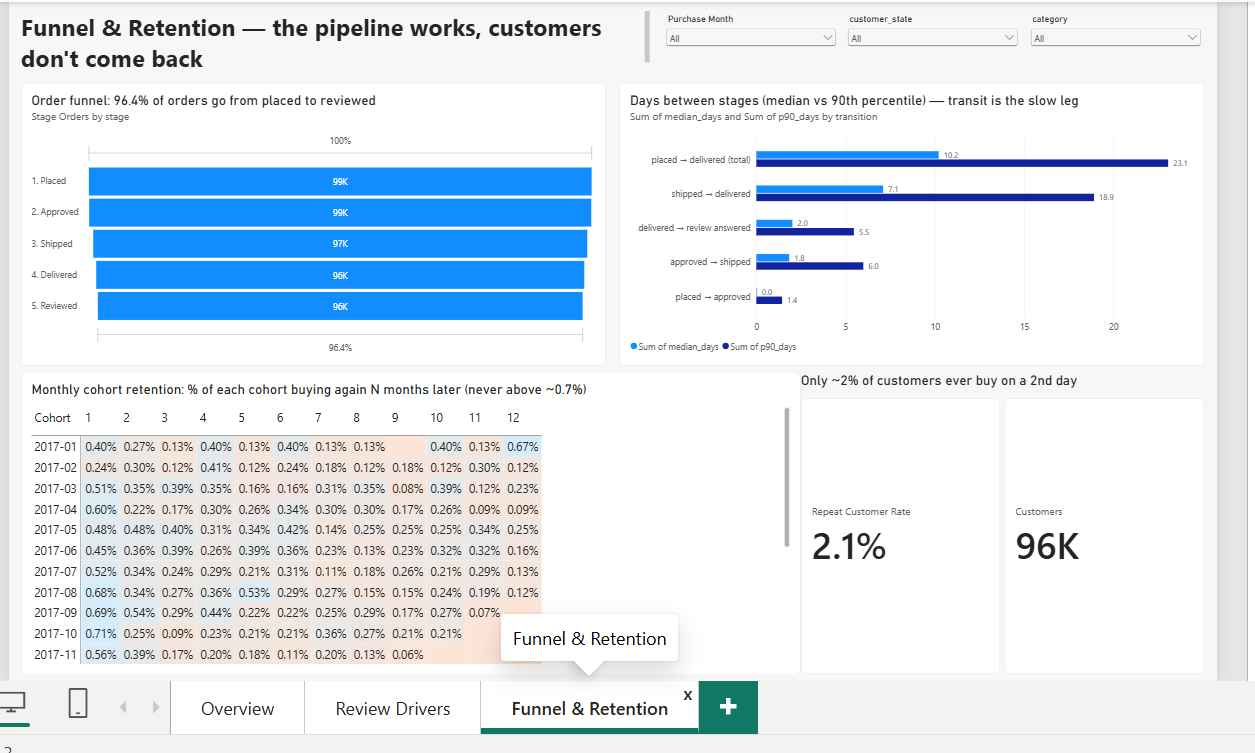

The dashboard page shown, as its layout file describes it:
{"tool":"powerbi","page":{"name":"Funnel & Retention","canvas":[1920,1080],"ordinal":2},"visuals":[{"type":"slicer","fields":{"Values":["fact_orders.Purchase Month"]},"box":[1040,20,280,80],"z":0},{"type":"slicer","fields":{"Values":["fact_orders.category"]},"box":[1620,20,280,80],"z":1},{"type":"slicer","fields":{"Values":["fact_orders.customer_state"]},"box":[1330,20,280,80],"z":2},{"type":"textbox","box":[20,15,1000,90],"z":3},{"type":"funnel","title":"Order funnel: 96.4% of orders go from placed to reviewed","fields":{"Category":["Stage.stage"],"Y":["fact_orders.Stage Orders"]},"box":[20,130,930,450],"z":4},{"type":"clusteredBarChart","title":"Days between stages (median vs 90th percentile) — transit is the slow leg","fields":{"Category":["funnel_stage_times.transition"],"Y":["Sum(funnel_stage_times.median_days)","Sum(funnel_stage_times.p90_days)"]},"box":[970,130,930,450],"z":5},{"type":"pivotTable","title":"Monthly cohort retention: % of each cohort buying again N months later (never above ~0.7%)","fields":{"Columns":["cohort_retention.month_number"],"Rows":["cohort_retention.Cohort"],"Values":["cohort_retention.Retention % (months 1-12)"]},"box":[20,590,1240,480],"z":6},{"type":"cardVisual","title":"Only ~2% of customers ever buy on a 2nd day","fields":{"Data":["fact_orders.Repeat Customer Rate","fact_orders.Customers"]},"box":[1260,590,640,480],"z":7},{"type":"textbox","box":[20,15,1000,90],"z":8}]}

Visuals, with their boxes on the page's 1920x1080 design canvas (x1, y1, x2, y2). These are canvas units, not pixel positions in the 1255x753 screenshot, which may show the page scaled, cropped or inside an application window:
slicer - fact_orders.Purchase Month: bbox=[1040, 20, 1320, 100]
slicer - fact_orders.category: bbox=[1620, 20, 1900, 100]
slicer - fact_orders.customer_state: bbox=[1330, 20, 1610, 100]
textbox: bbox=[20, 15, 1020, 105]
"Order funnel: 96.4% of orders go from placed to reviewed" funnel: bbox=[20, 130, 950, 580]
"Days between stages (median vs 90th percentile) — transit is the slow leg" clusteredBarChart: bbox=[970, 130, 1900, 580]
"Monthly cohort retention: % of each cohort buying again N months later (never above ~0.7%)" pivotTable: bbox=[20, 590, 1260, 1070]
"Only ~2% of customers ever buy on a 2nd day" cardVisual: bbox=[1260, 590, 1900, 1070]
textbox: bbox=[20, 15, 1020, 105]
